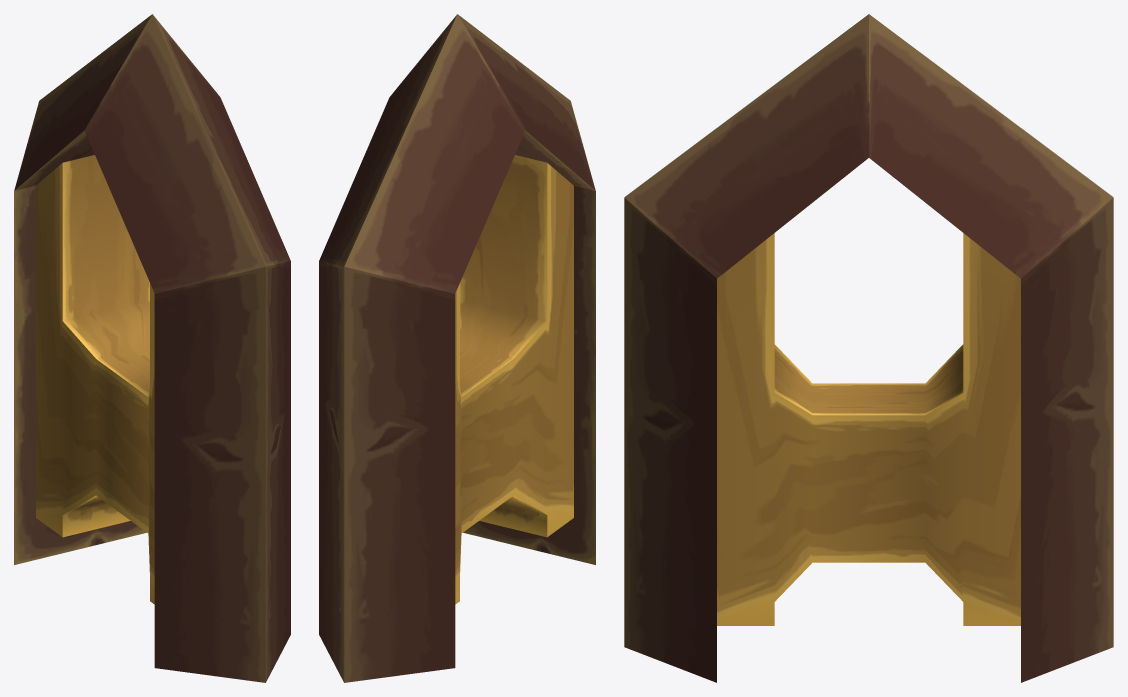
File: SM_WEP_head_axe_battle_01.fbx
The picture shows the model from 3 angles, left to right: view 1: azimuth 30°, elevation 25°; view 2: azimuth 150°, elevation 25°; view 3: azimuth 270°, elevation 25°; orthographic projection. The views are drawn at different scales.
Visible parts, largest first — view 1: SM_WEP_head_axe_battle_01; view 2: SM_WEP_head_axe_battle_01; view 3: SM_WEP_head_axe_battle_01.
Boxes of the visible parts, bbox=[...] form: SM_WEP_head_axe_battle_01: bbox=[14, 14, 290, 682]; SM_WEP_head_axe_battle_01: bbox=[319, 14, 595, 682]; SM_WEP_head_axe_battle_01: bbox=[624, 14, 1113, 682].
Bounding box in the file's own units: 14.61 × 60.16 × 42.17.
